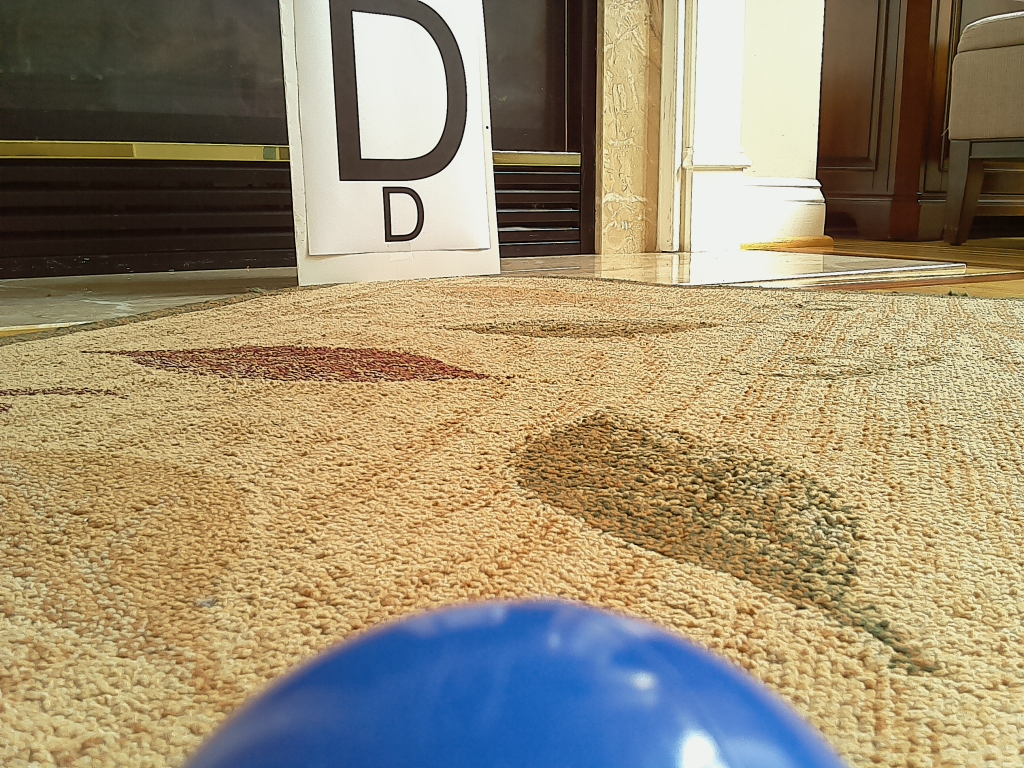letter: (339, 1, 467, 180)
